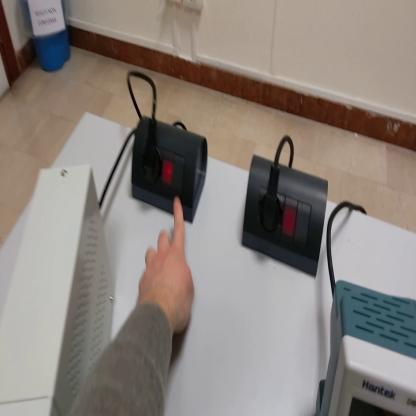hand: (138, 196, 195, 335)
oscilloscope: (316, 282, 416, 414)
power supply: (2, 162, 116, 414)
socket: (242, 153, 331, 281), (130, 114, 206, 222)
